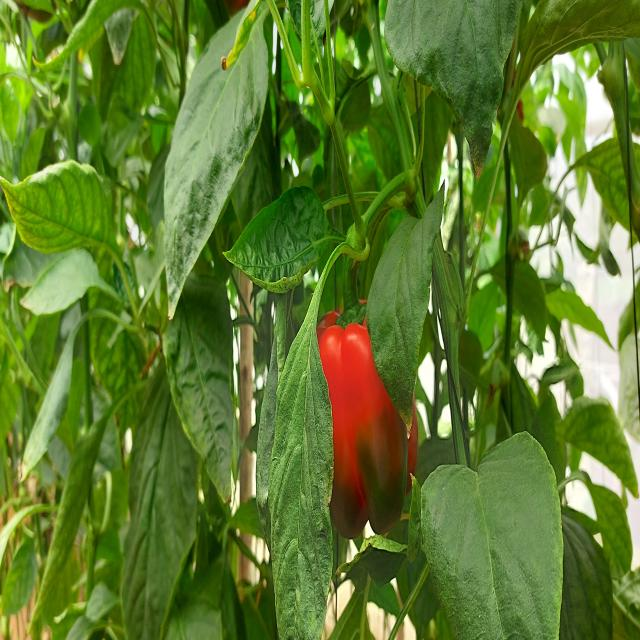BrownishRed--Can-be-Harvested: (309, 318, 422, 542)
